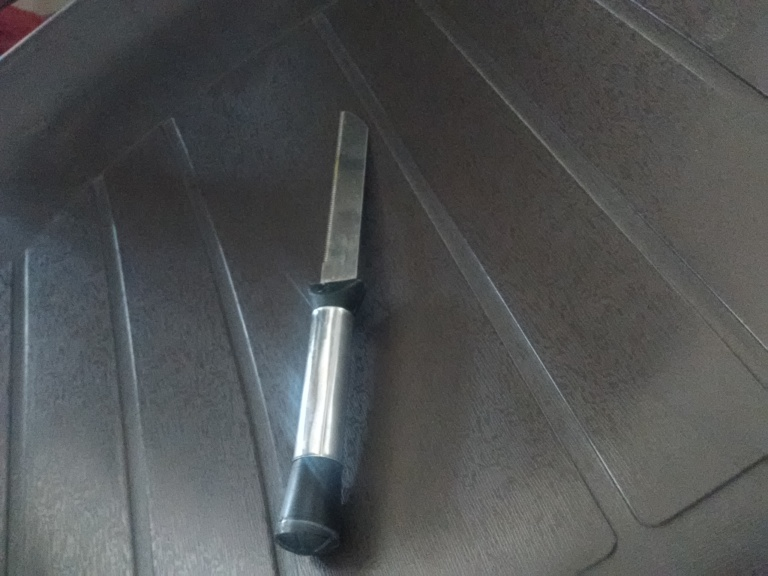knife: (272, 108, 371, 559)
